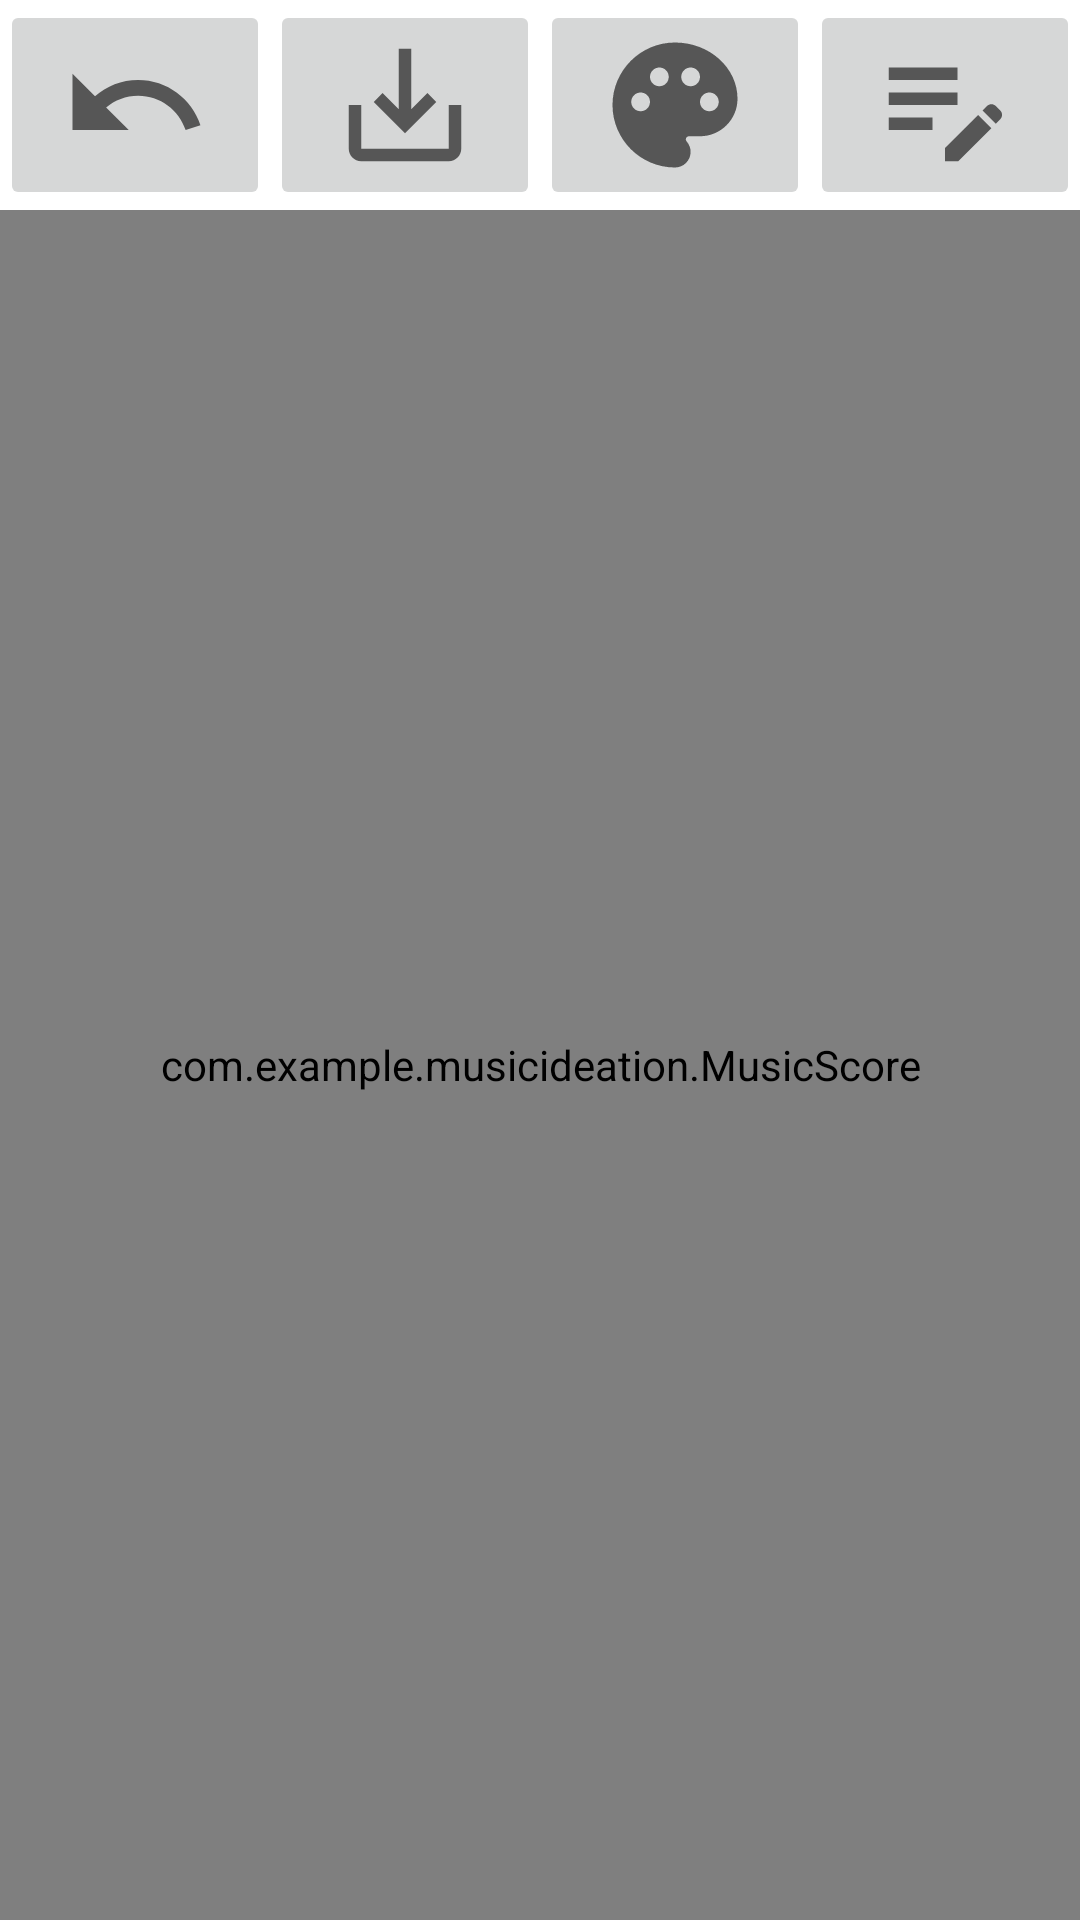

Point at icon controls on the screen. Image size 1080w x 1920h, points as (x,y).
palette: (675,105)
pen: (945,105)
save: (405,105)
undo: (135,105)
